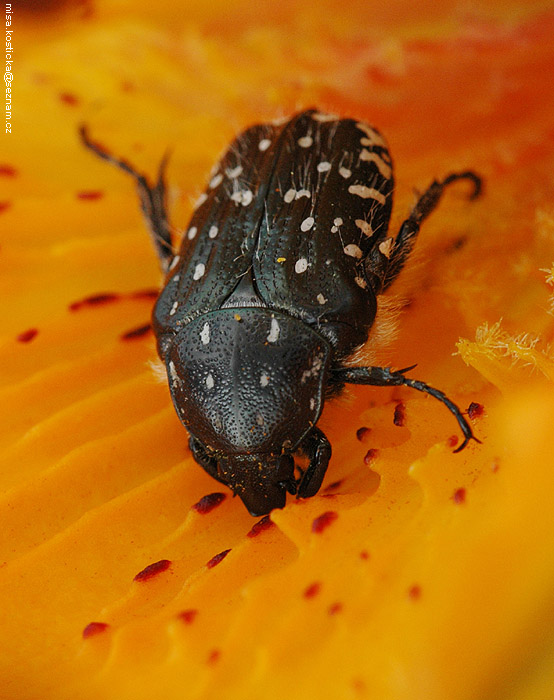Oxythyrea_funesta: (75, 106, 492, 520)
